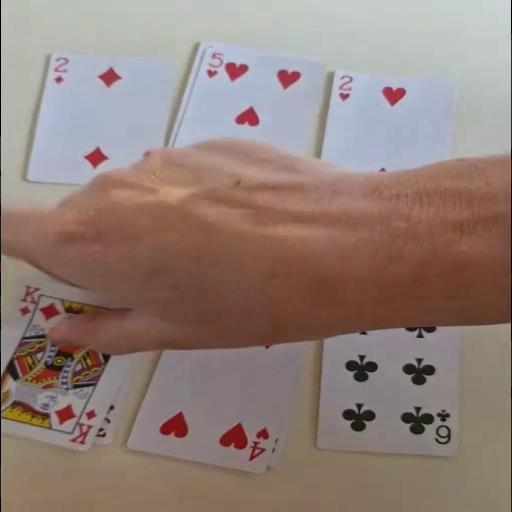2: (50, 54, 71, 86), (336, 73, 354, 102)
3: (202, 50, 226, 80)
4: (244, 425, 272, 462)
6: (430, 407, 452, 446)
K: (65, 408, 99, 446), (15, 282, 42, 317)
